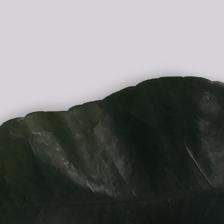healthy: (13, 94, 224, 224)
